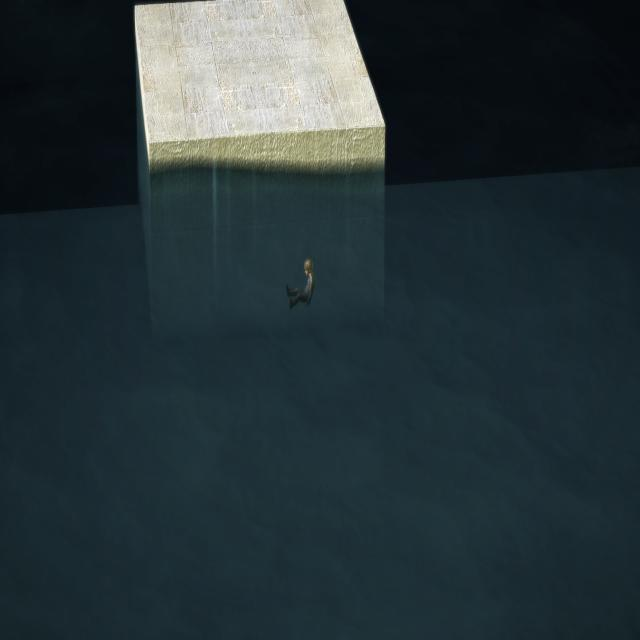Human: (284, 258, 318, 311)
